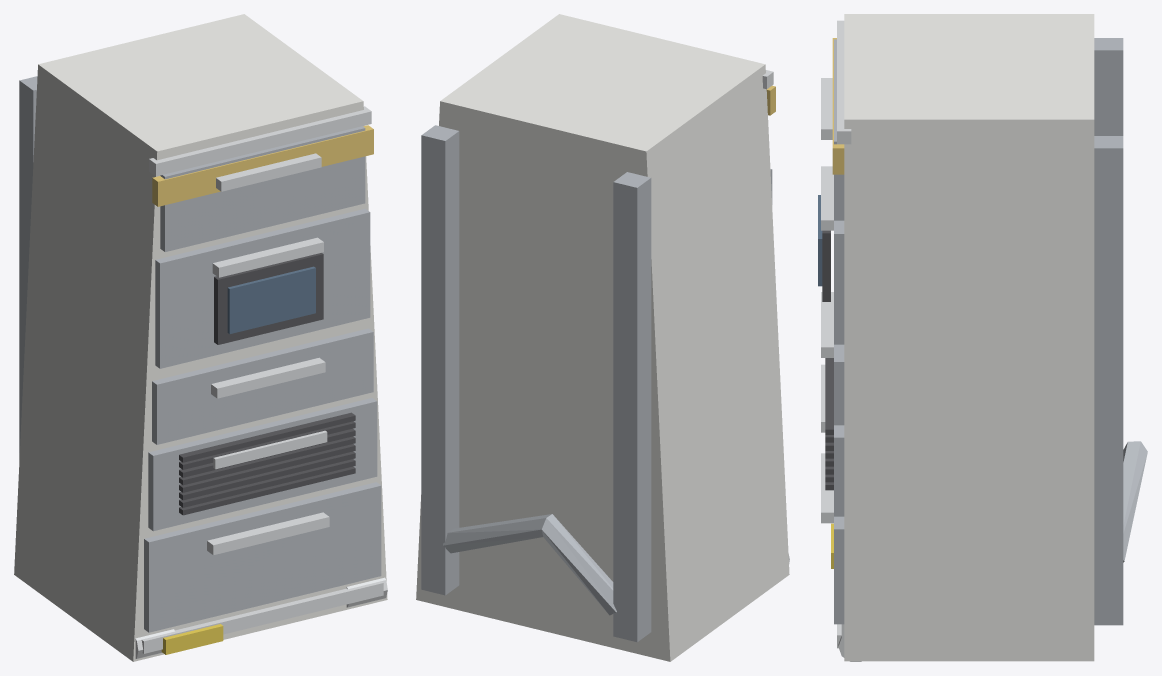
File: orbital-station-and-docking-bays-equipment-rack-stowag-d4595c68__24572.glb
3 renders of one model, left to right at view 1: azimuth 30°, elevation 25°; view 2: azimuth 150°, elevation 25°; view 3: azimuth 270°, elevation 25°, orthographic. The views are drawn at different scales.
Visible parts, largest first — view 1: equipment-rack-stowage, rack-tilt; view 2: equipment-rack-stowage; view 3: equipment-rack-stowage.
Boxes of the visible parts, <box> form: equipment-rack-stowage: <box>14,14,387,661</box>; rack-tilt: <box>135,577,387,658</box>; equipment-rack-stowage: <box>416,14,789,661</box>; equipment-rack-stowage: <box>818,14,1147,661</box>.
Size of the model in its own units: 1.06 by 2.02 by 1.13.
